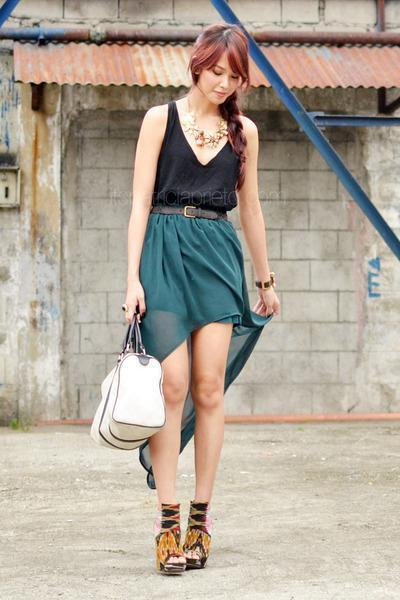bag: (91, 304, 164, 467)
shirt: (150, 108, 245, 217)
shoe: (154, 502, 210, 577)
skirt: (138, 205, 275, 452)
